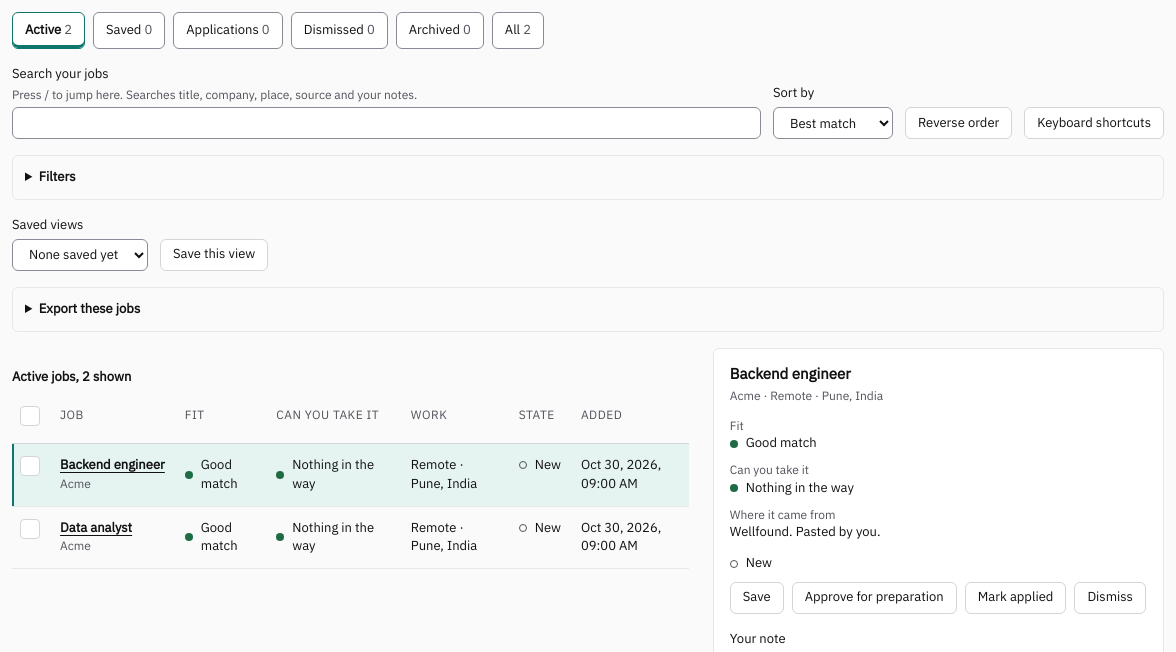
it: Workbench › moves with the keys, saves with S and offers an undo that works
This screenshot has width=1176, height=652.
Expected: the link "Data analyst" is shown, [60,518,132,536]
Step 1. Type keys "j"
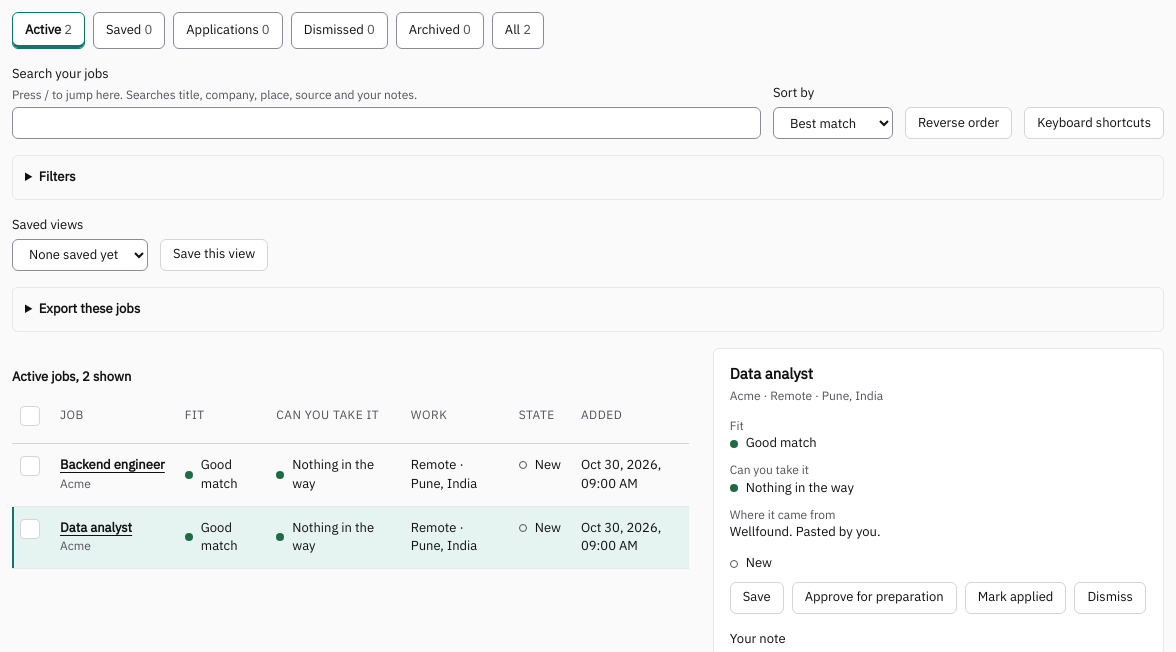
Step 2. Type keys "s"
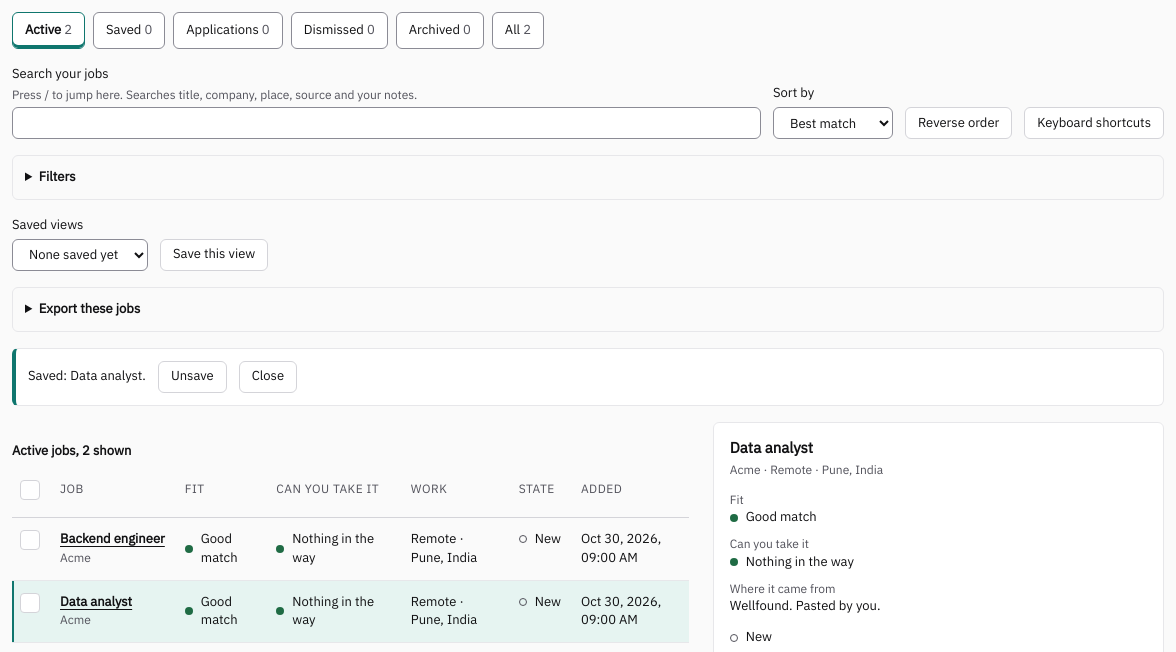
Result: the text "Saved: Data analyst." is shown at [28,367,146,386]
Step 3. Click the button "Unsave" → (192, 377), box [158,361,227,393]
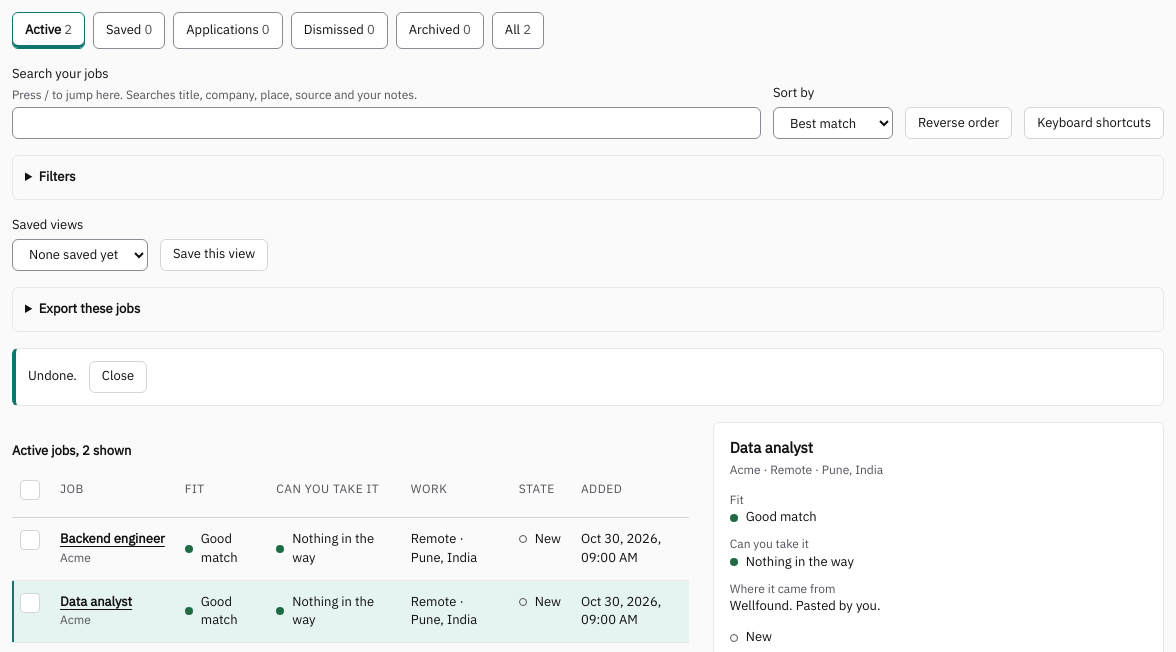
Result: the text "Undone." is shown at [28,367,77,386]
